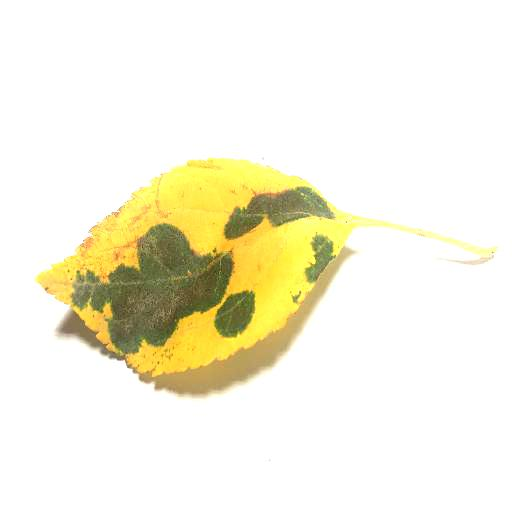Brown_Spot: (108, 266, 223, 337), (223, 190, 328, 221)
